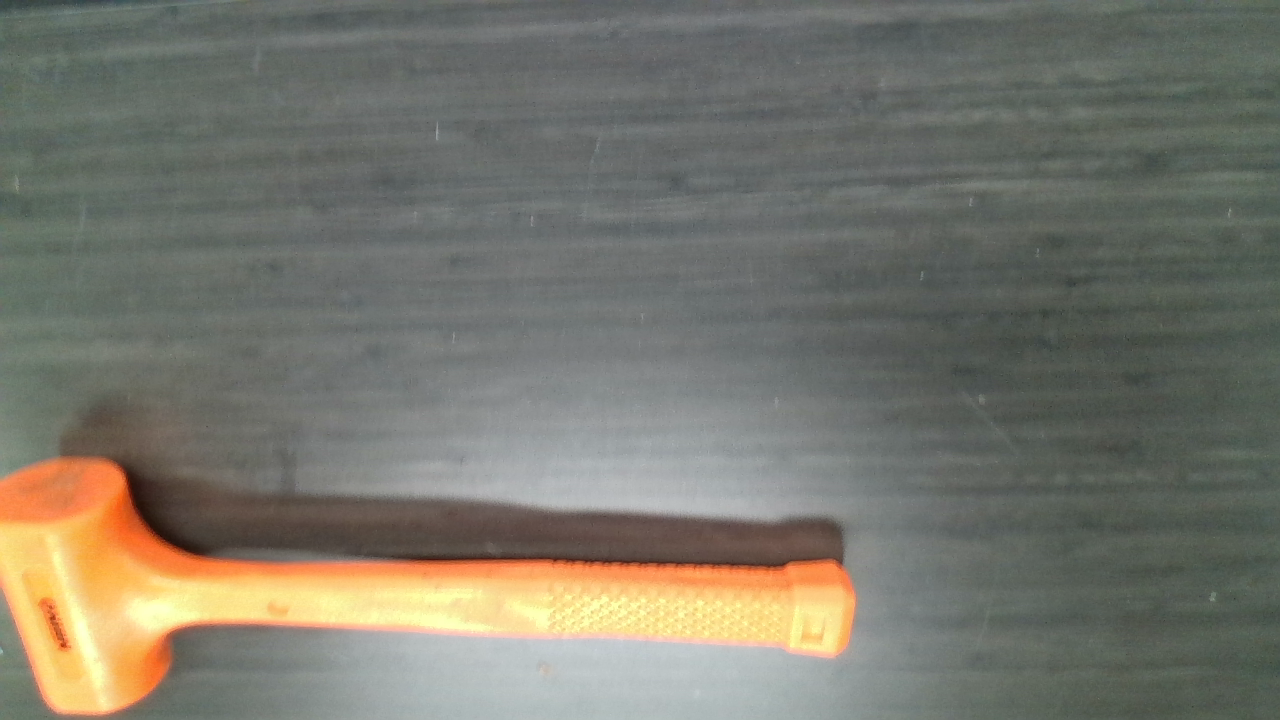Orange Hammer: (5, 457, 857, 715)
